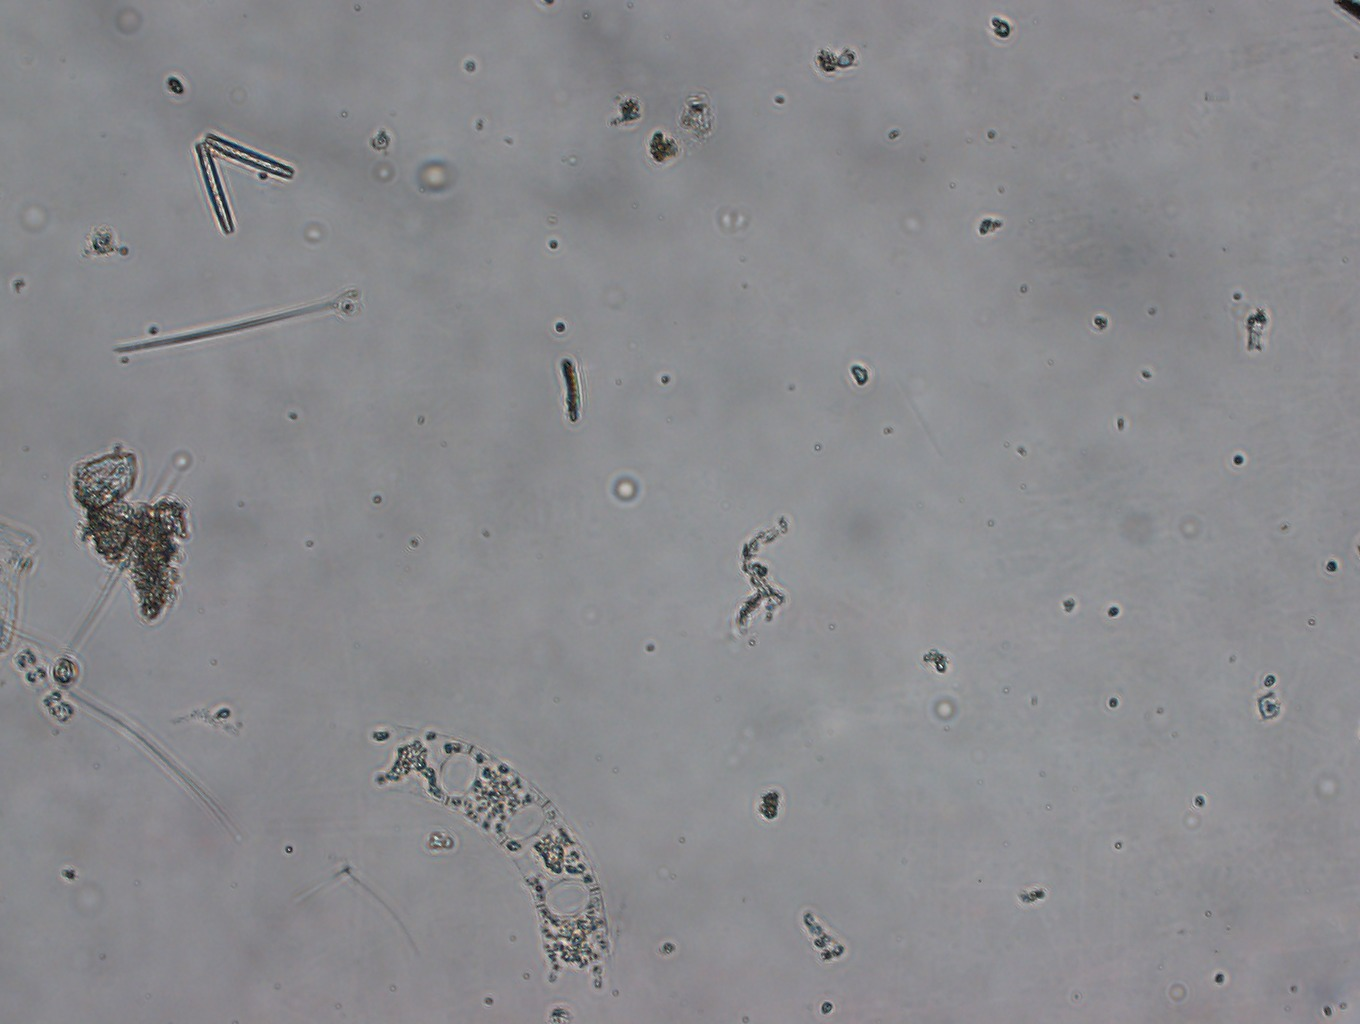eucampia: (366, 719, 632, 993)
thalassionema frauenfeldii: (190, 129, 305, 252)
